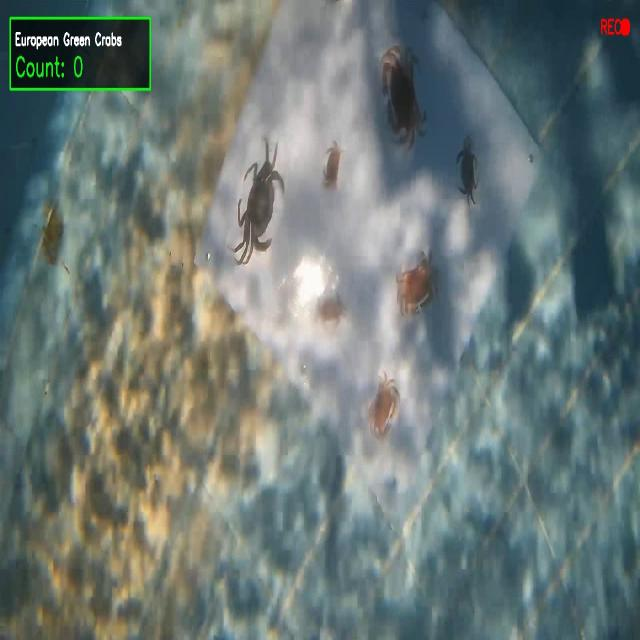European_Green_Crab: (221, 126, 294, 275), (307, 275, 351, 348), (451, 130, 483, 208)
